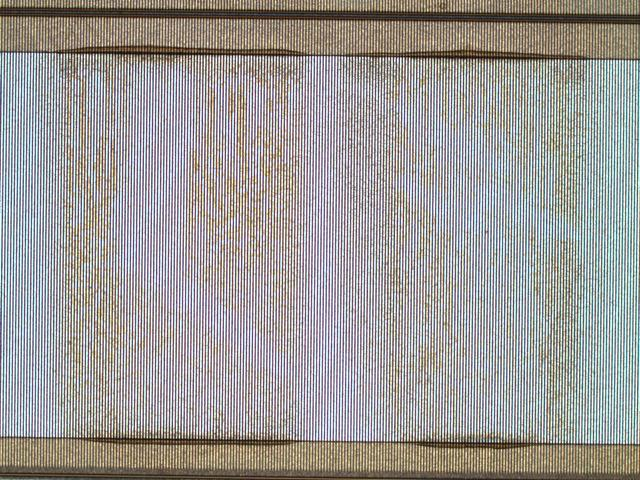SEZ BURNT: (42, 47, 597, 451)
